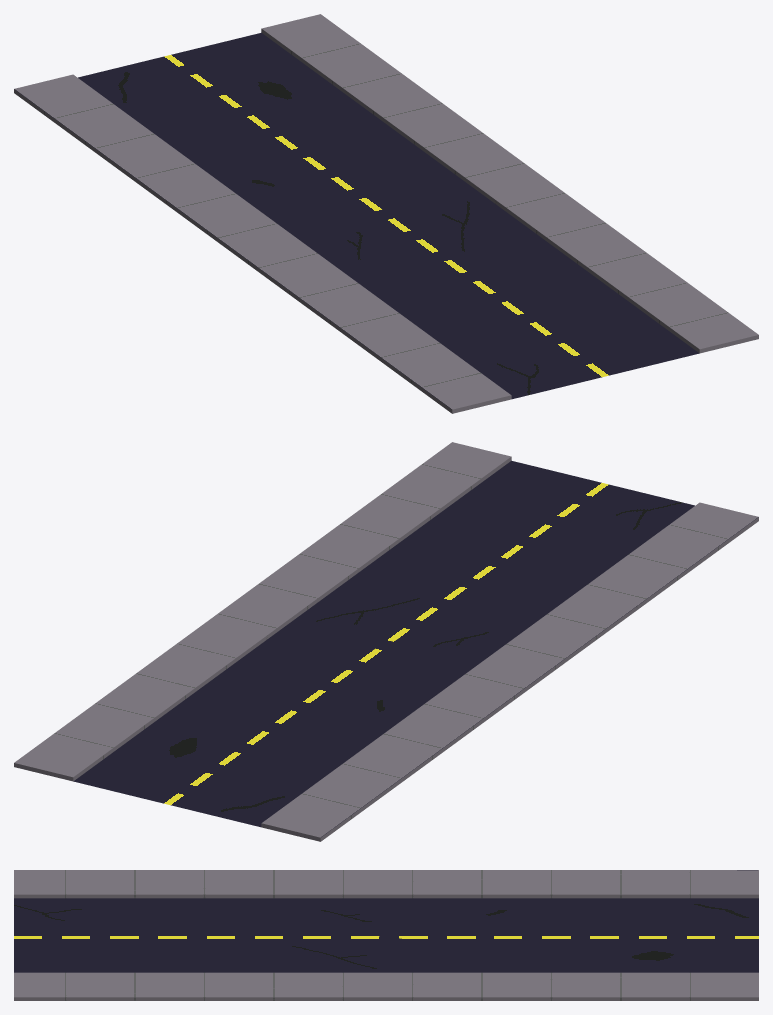
File: LongStraight.glb
3 views of the same model, one above another, from view 1: azimuth 30°, elevation 25°; view 2: azimuth 150°, elevation 25°; view 3: azimuth 270°, elevation 25° (orthographic). The views are drawn at different scales.
Parts seen in each view (by area): view 1: Plane; view 2: Plane; view 3: Plane.
Part boxes in pixels (<box>): Plane: <box>14,14,758,413</box>; Plane: <box>14,442,758,841</box>; Plane: <box>14,870,758,1000</box>.
Size of the model in its own units: 15.53 by 0.2021 by 38.44.
Materials: 1 (1 with a texture image).
